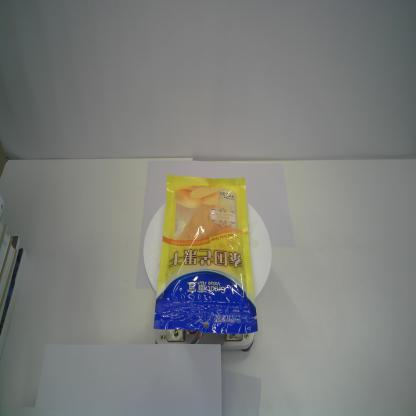Dried Fruit: (153, 174, 259, 336)
